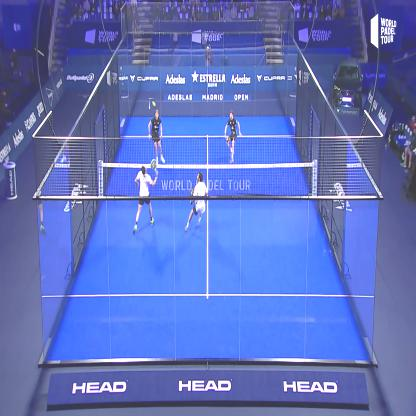ball: (150, 98, 160, 110)
